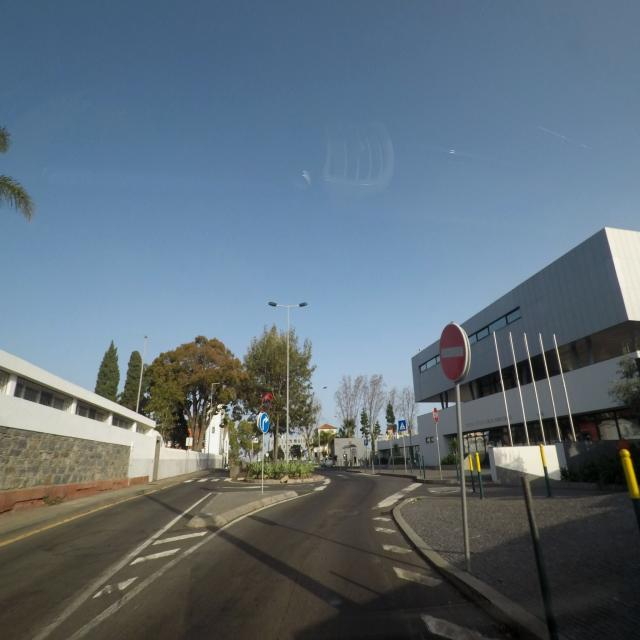car: (566, 437, 640, 479)
